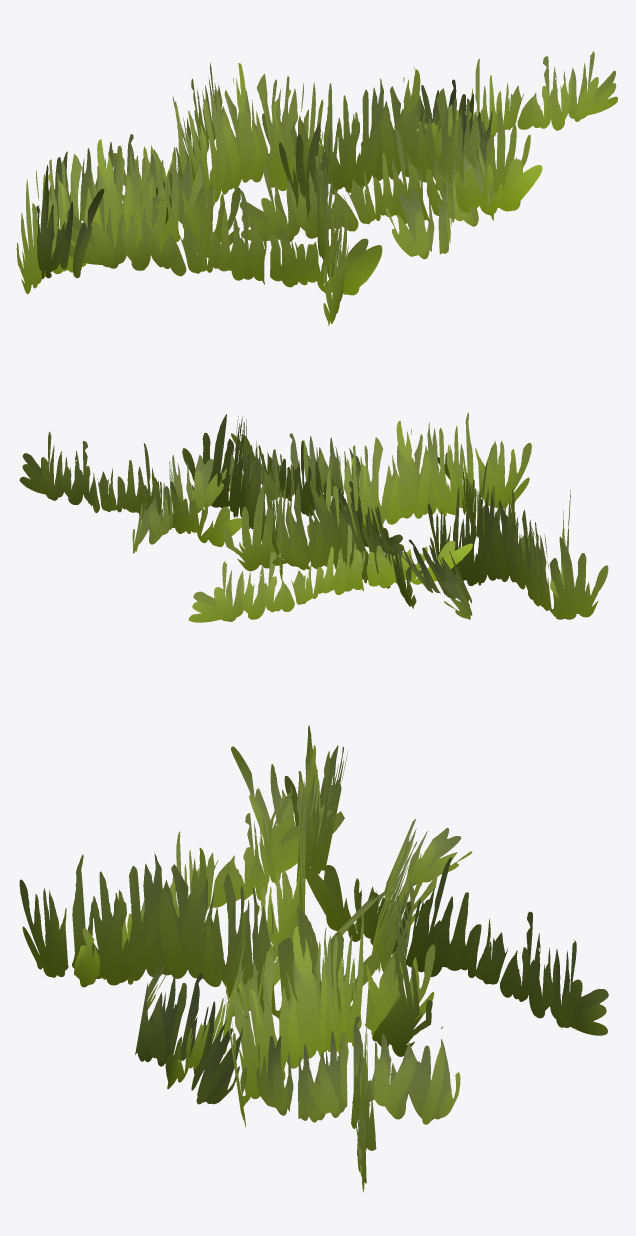
File: Mod_Grass04.fbx
3 renders of one model, top to bottom at view 1: azimuth 30°, elevation 25°; view 2: azimuth 150°, elevation 25°; view 3: azimuth 270°, elevation 25°, orthographic. The views are drawn at different scales.
Parts seen in each view (by area): view 1: Grass_055; view 2: Grass_055; view 3: Grass_055.
Part boxes in pixels (bbox=[...]): Grass_055: bbox=[16, 51, 617, 325]; Grass_055: bbox=[19, 412, 608, 622]; Grass_055: bbox=[19, 725, 608, 1191].
Size of the model in its own units: 302 by 77.05 by 204.
